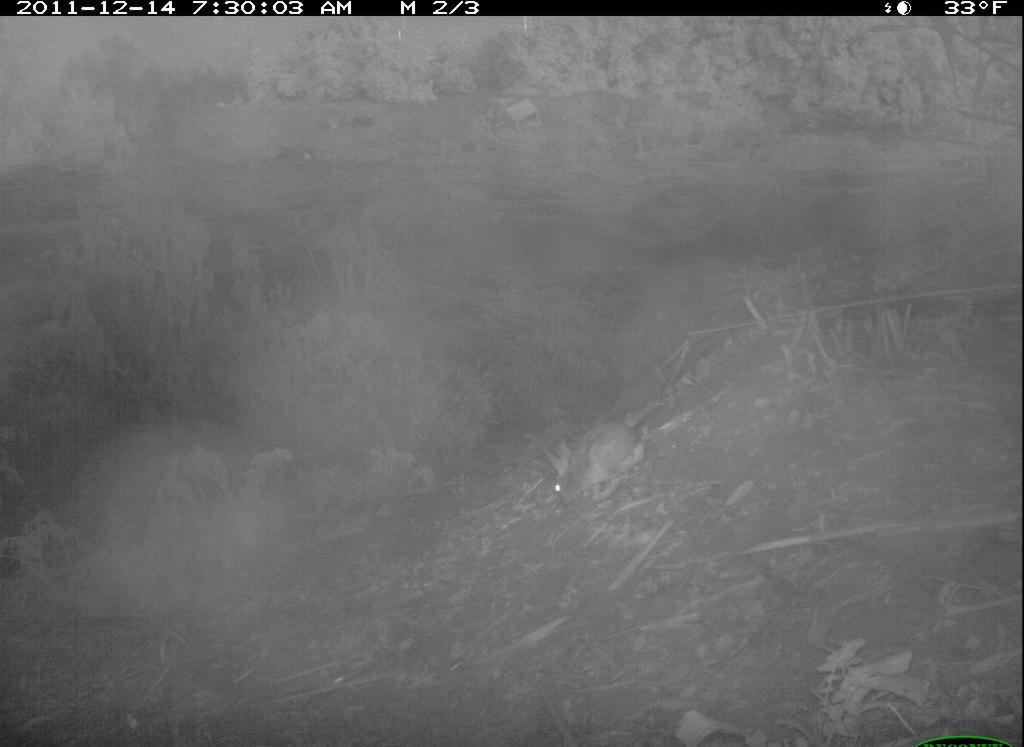rabbit: (539, 412, 668, 518)
